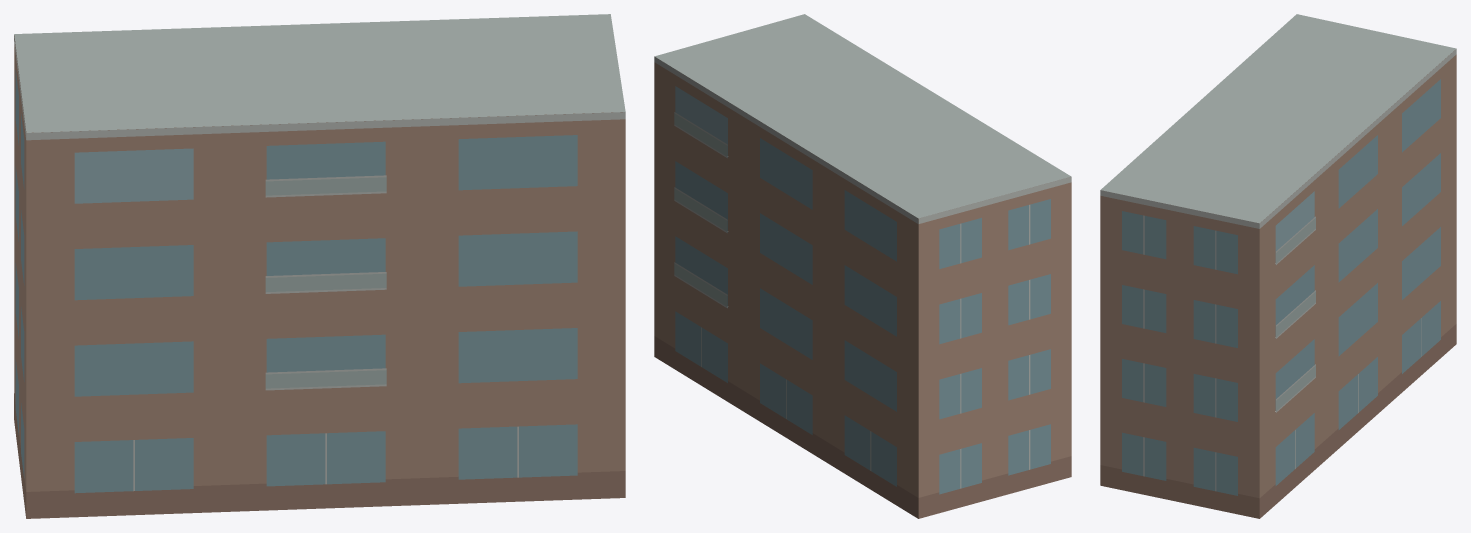
File: survey-upis-32999168.glb
3 views of the same model, side by side, from view 1: azimuth 30°, elevation 25°; view 2: azimuth 150°, elevation 25°; view 3: azimuth 270°, elevation 25° (orthographic). The views are drawn at different scales.
Visible parts, largest first — view 1: survey-upis-32999168.tmp; view 2: survey-upis-32999168.tmp; view 3: survey-upis-32999168.tmp.
Part boxes in pixels (bbox=[...]): survey-upis-32999168.tmp: bbox=[14, 14, 625, 518]; survey-upis-32999168.tmp: bbox=[654, 14, 1071, 518]; survey-upis-32999168.tmp: bbox=[1100, 14, 1456, 518].
Bounding box in the file's own units: 19.45 × 12.8 × 14.
